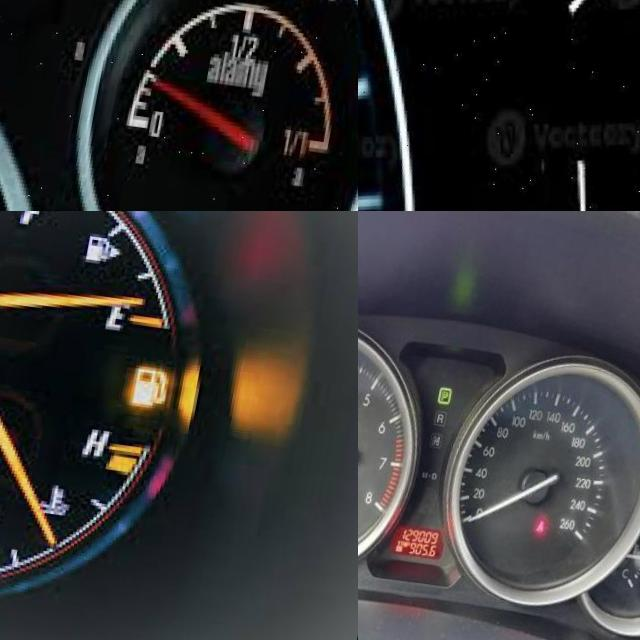Seat Belt: (548, 505, 561, 521)
